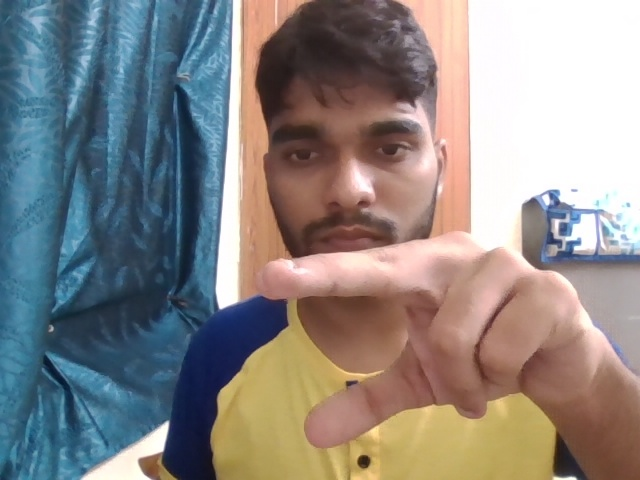No: (231, 181, 596, 458)
